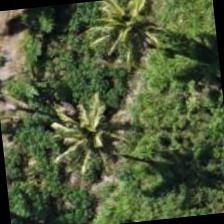Kelapa_Sawit: (44, 82, 142, 180), (84, 0, 182, 71)
